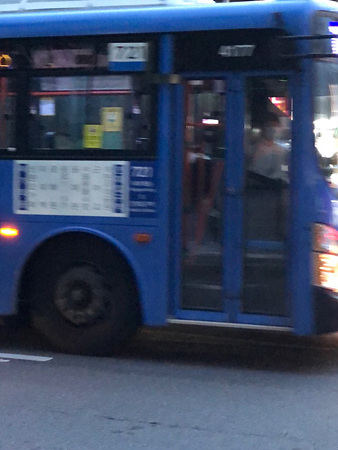entrance: (178, 61, 297, 333)
